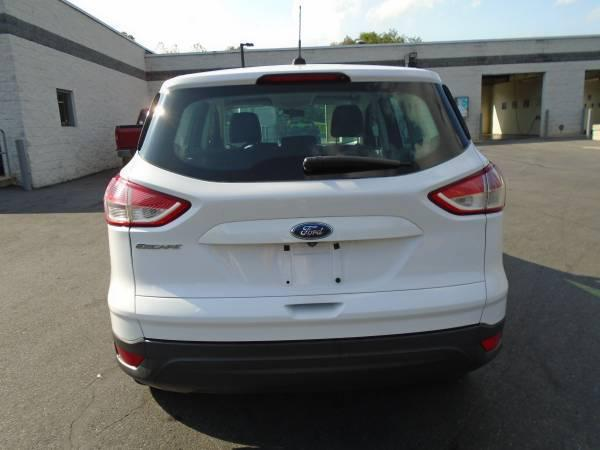Left_Taillight: (106, 174, 192, 227)
Rear_Bumper: (105, 211, 507, 398)
Rear_Windshield: (135, 80, 469, 185)
Right_Taillight: (431, 162, 508, 214)
Roof: (162, 66, 443, 92)
Tailgate: (119, 140, 490, 296)
